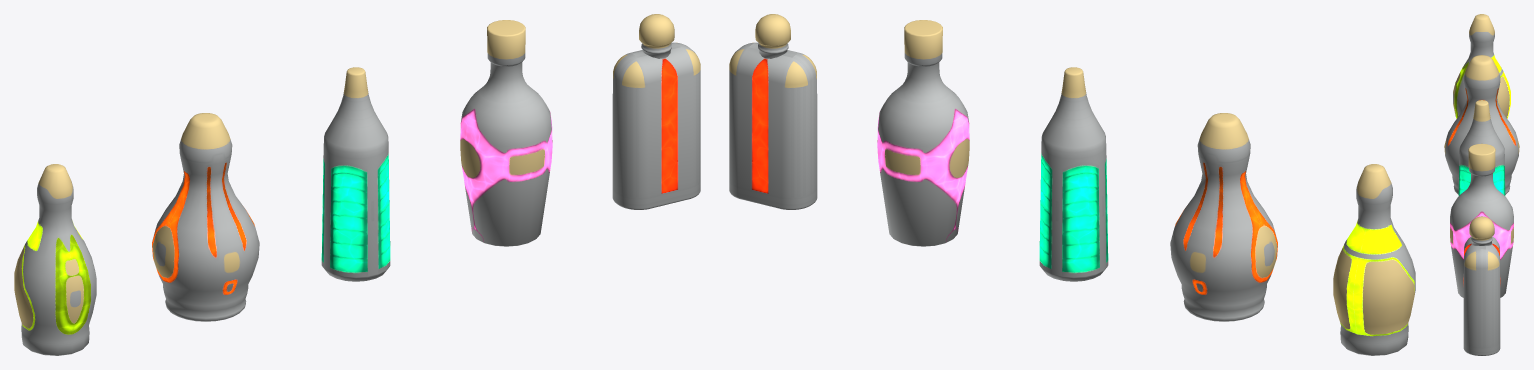
The model's file is BarBottles01_1.FBX.
3 views of the same model, side by side, from view 1: azimuth 30°, elevation 25°; view 2: azimuth 150°, elevation 25°; view 3: azimuth 270°, elevation 25° (orthographic). The views are drawn at different scales.
Visible parts, largest first — view 1: BarBottles01_1; view 2: BarBottles01_1; view 3: BarBottles01_1.
Boxes of the visible parts, bbox=[...] form: BarBottles01_1: bbox=[14, 14, 700, 355]; BarBottles01_1: bbox=[729, 14, 1415, 355]; BarBottles01_1: bbox=[1444, 14, 1519, 355].
Size of what is drawn, in the model's own units: 1.08 by 0.3128 by 0.1493.
